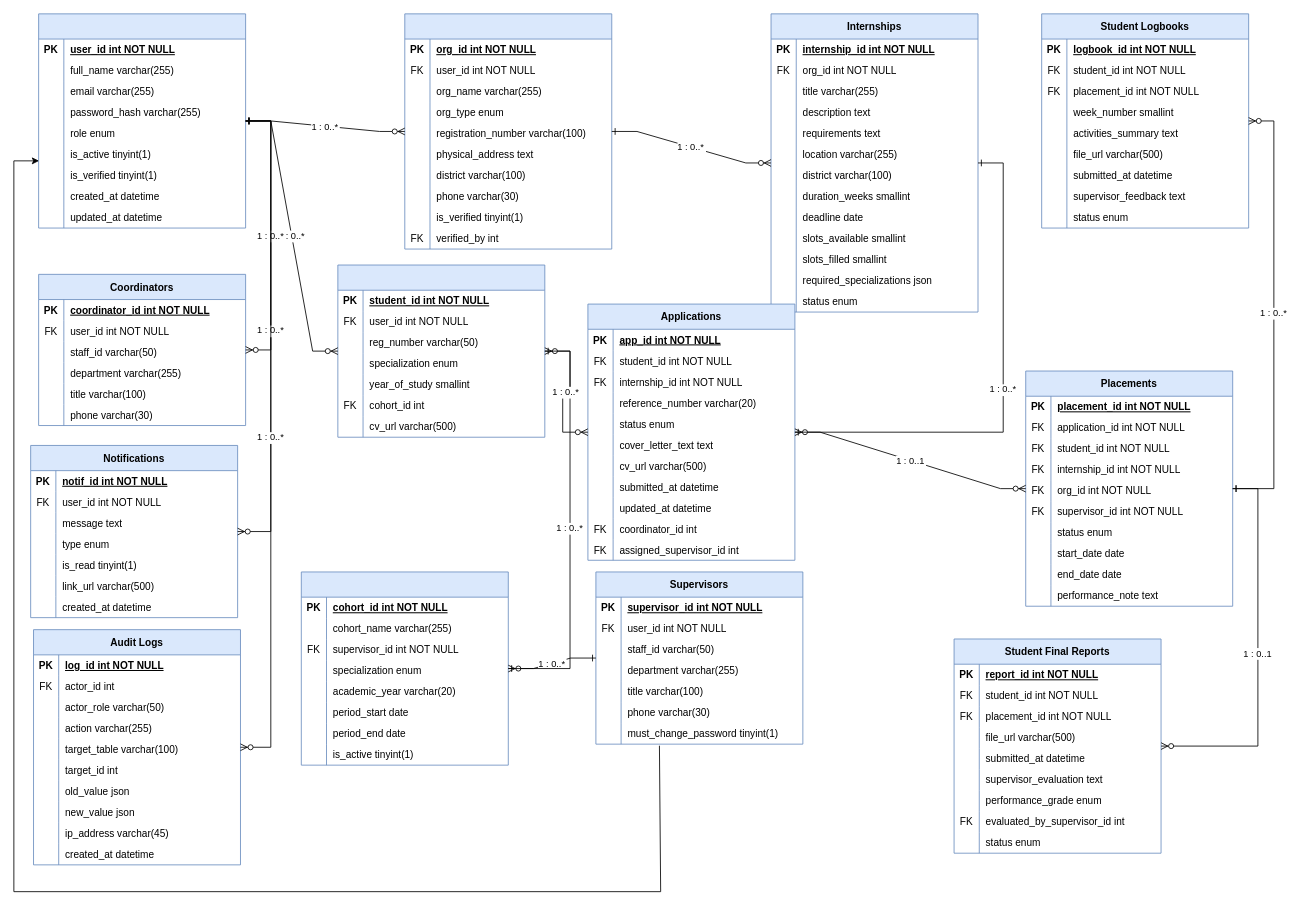
This 1303x906 diagram has some shape labels left out. Each missing label, with the box of its shape:
Cohorts: (300, 571, 508, 765)
Organizations: (404, 13, 612, 249)
Students: (337, 264, 545, 437)
Users: (38, 13, 246, 228)
